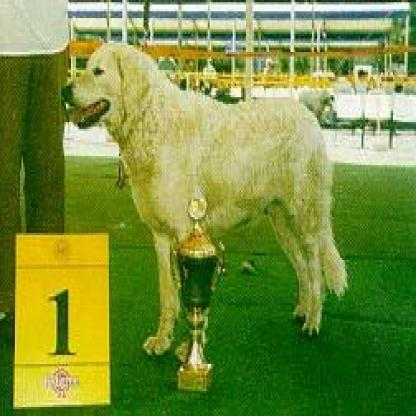kuvasz: (58, 34, 343, 362)
